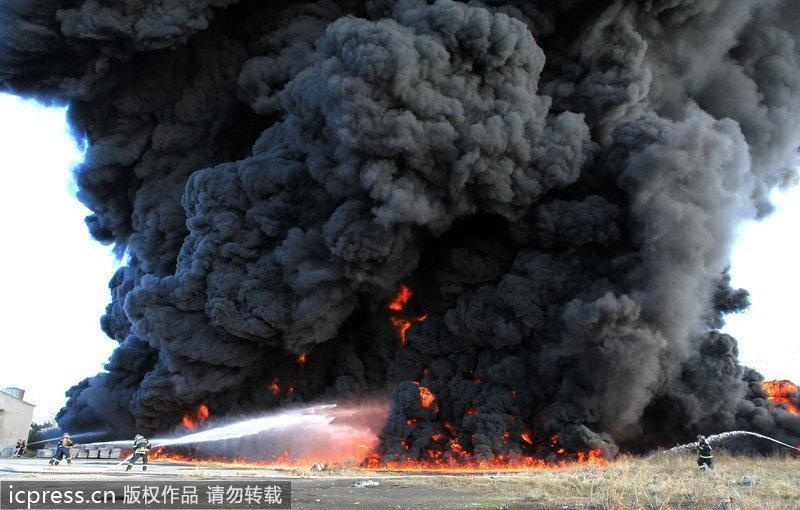fire: (765, 377, 800, 415)
